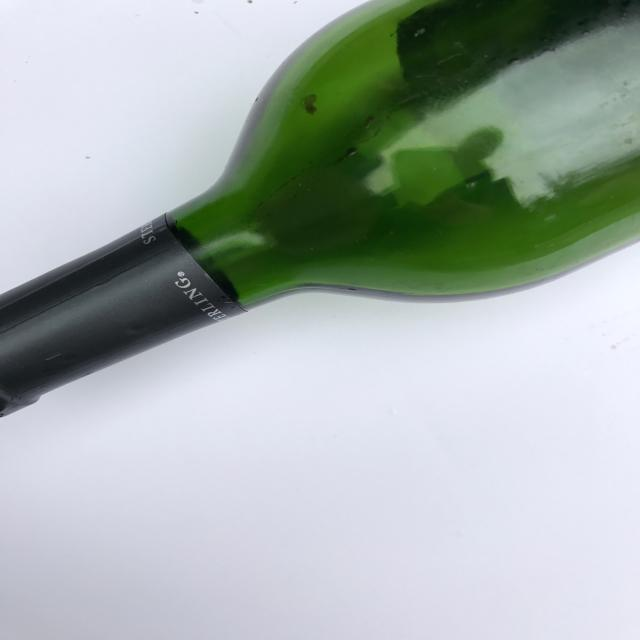glass: (11, 0, 640, 419)
